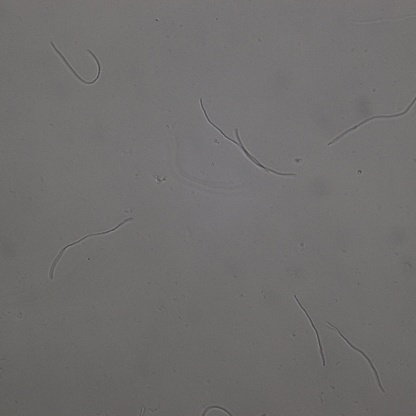Sensitive: (199, 98, 295, 177), (49, 217, 131, 280), (329, 97, 416, 144), (327, 323, 384, 392), (294, 296, 326, 367), (52, 42, 101, 85)
